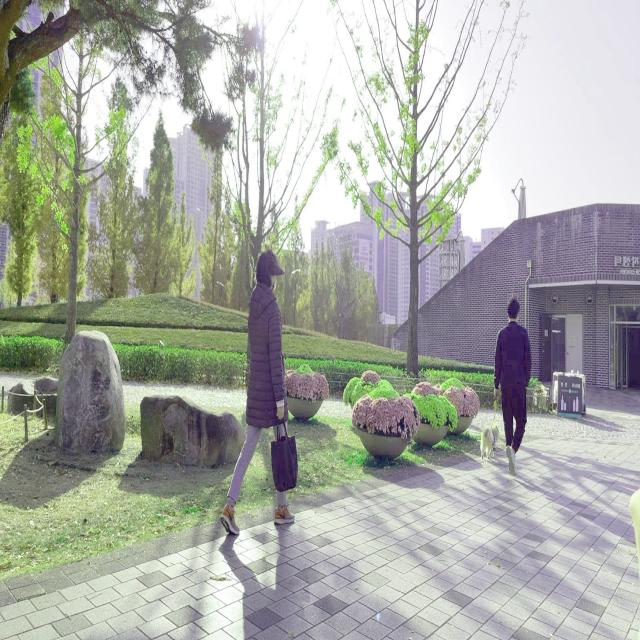Leashed_Dog: (479, 386, 510, 461)
